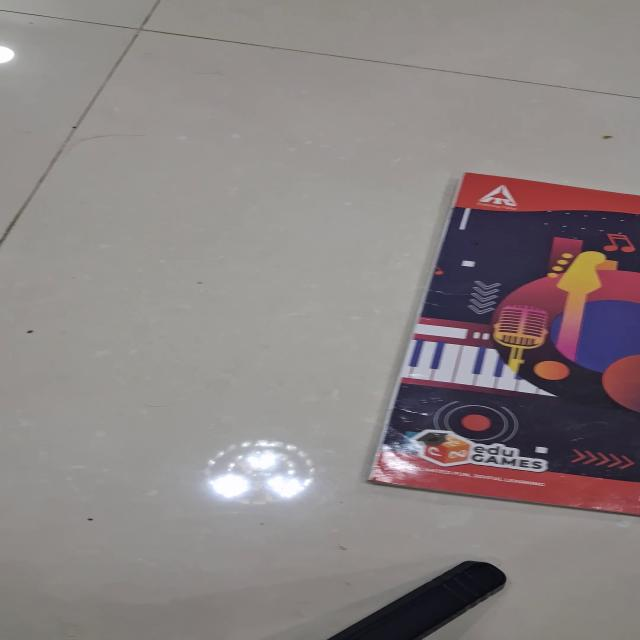paper: (365, 172, 639, 516)
